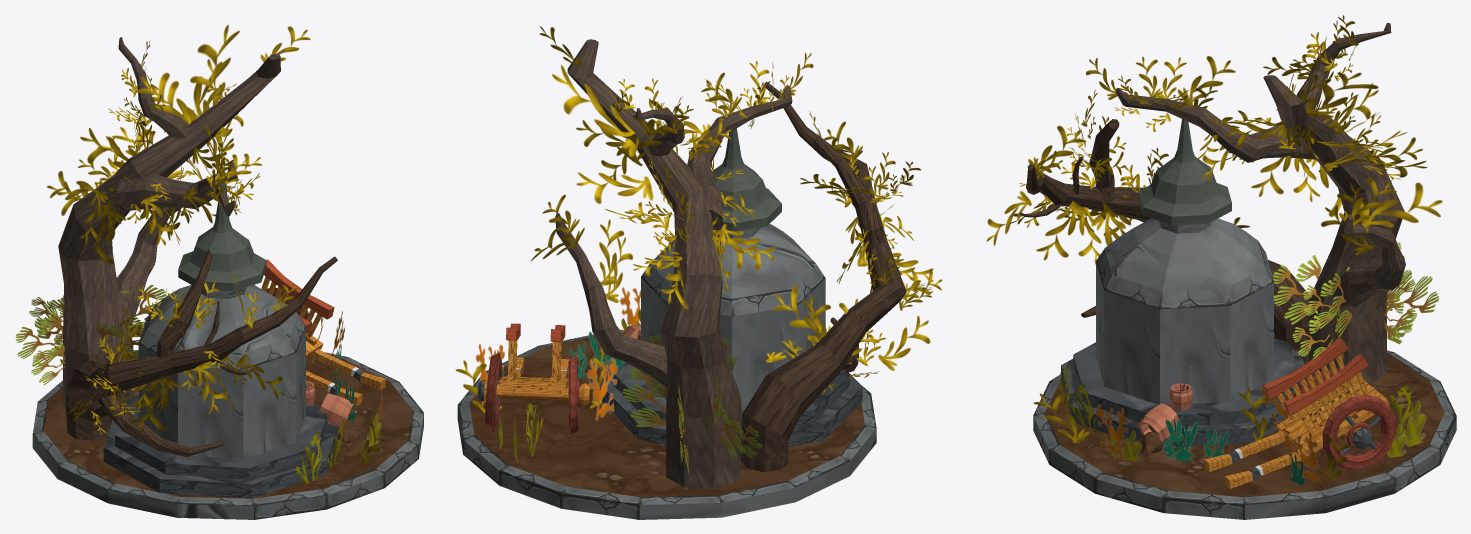
File: cn_pagoda.glb
3 views of the same model, side by side, from view 1: azimuth 30°, elevation 25°; view 2: azimuth 150°, elevation 25°; view 3: azimuth 270°, elevation 25° (orthographic). The views are drawn at different scales.
Parts seen in each view (by area): view 1: Plane, Cylinder.004, Cylinder.005, Cylinder, Cylinder.003, Cylinder.006, Cylinder.007, Cube, Cube.003, Cylinder.009, Cube.002; view 2: Cylinder, Cylinder.005, Plane, Cylinder.004, Cylinder.006, Cylinder.003, Cylinder.007, Torus, Cylinder.001, Cube.001, Cube.002; view 3: Cylinder.004, Plane, Cylinder, Cylinder.005, Cylinder.003, Cylinder.006, Torus, Cube.003, Cube.002, Cube, Cylinder.007, Cube.001 (+2 smaller).
Boxes of the visible parts, x1,y1,x2,y2 form: Plane: (15,24,385,483); Cylinder.004: (138,202,305,459); Cylinder.005: (58,37,280,411); Cylinder: (32,350,423,519); Cylinder.003: (103,396,338,498); Cylinder.006: (65,256,337,440); Cylinder.007: (97,249,254,456); Cube: (306,349,385,405); Cube.003: (254,259,334,333); Cylinder.009: (319,393,353,426); Cube.002: (261,276,321,345); Cylinder: (457,330,876,519); Cylinder.005: (555,39,792,488); Plane: (455,26,942,473); Cylinder.004: (641,128,825,410); Cylinder.006: (741,81,906,471); Cylinder.003: (602,362,862,454); Cylinder.007: (813,135,883,372); Torus: (485,352,579,434); Cylinder.001: (478,380,589,406); Cube.001: (498,376,568,390); Cube.002: (507,340,561,382); Cylinder.004: (1096,118,1273,404); Plane: (986,15,1442,485); Cylinder: (1033,333,1456,519); Cylinder.005: (1116,23,1405,382); Cylinder.003: (1061,338,1306,447); Cylinder.006: (1026,164,1309,361); Torus: (1293,368,1395,470); Cube.003: (1263,337,1368,415); Cube.002: (1277,355,1376,444); Cube: (1204,430,1308,488); Cylinder.007: (1019,119,1119,317); Cube.001: (1276,375,1389,455).
Bounding box in the file's own units: 442 × 422 × 448.
Materials: 18 (15 with a texture image).
